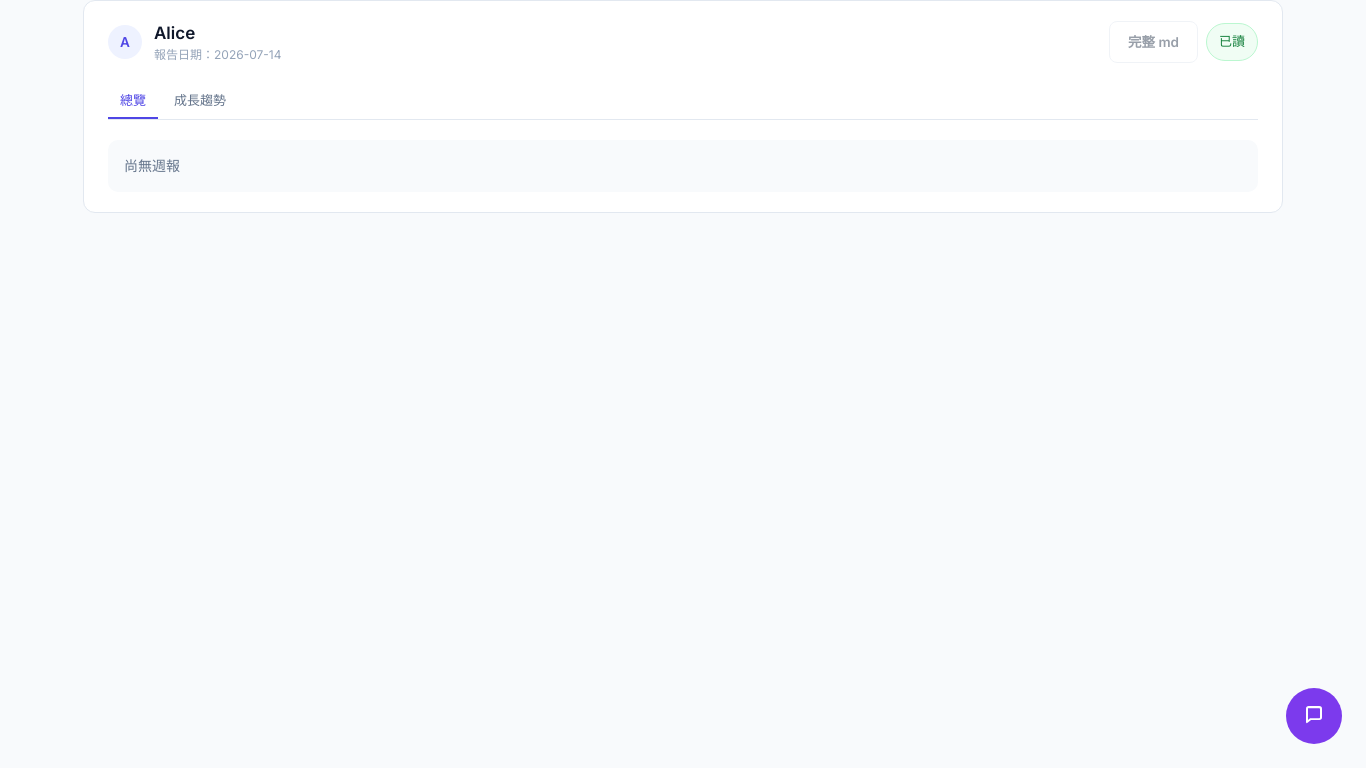
ReportsPage Agent Chat › appends assistant reply and reloads latest reports on success
The width and height of the screenshot is (1366, 768).
Step 1. Click the button named "展開 Agent Chat" → (1314, 716), box [1286, 688, 1342, 744]
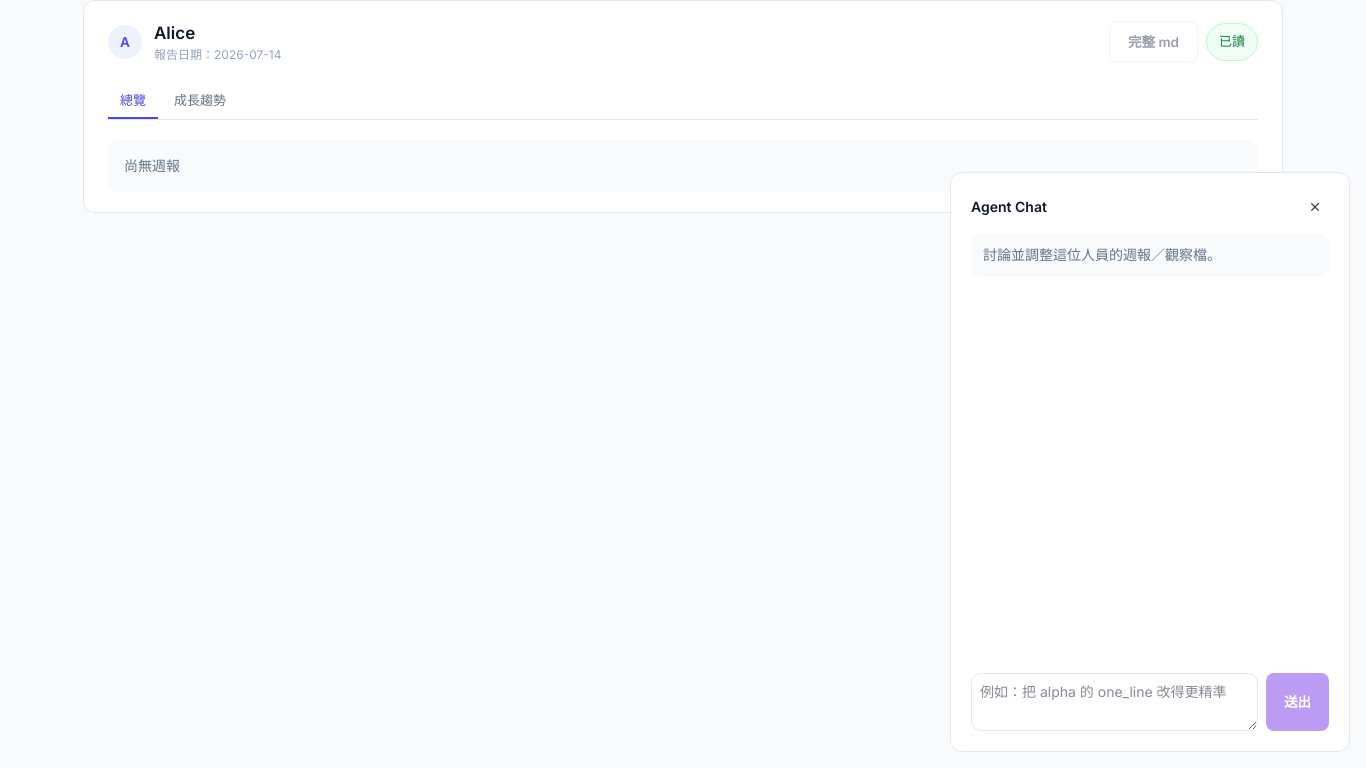
Step 2. Type "tighten one_line" into the text box with placeholder "例如：把 alpha 的 one_line 改得更精準" → (1114, 702), box [971, 673, 1258, 731]
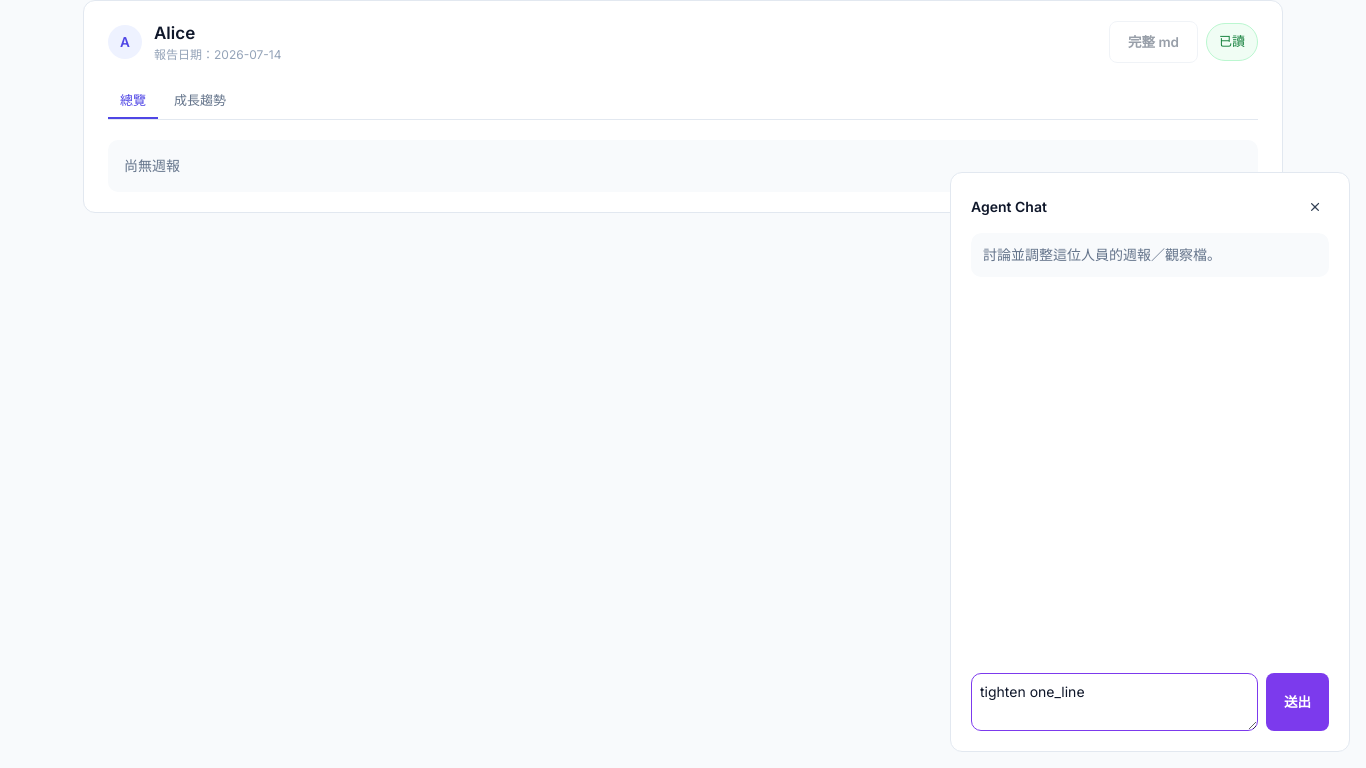
Step 3. Click the button "送出" → (1298, 702), box [1266, 673, 1329, 731]
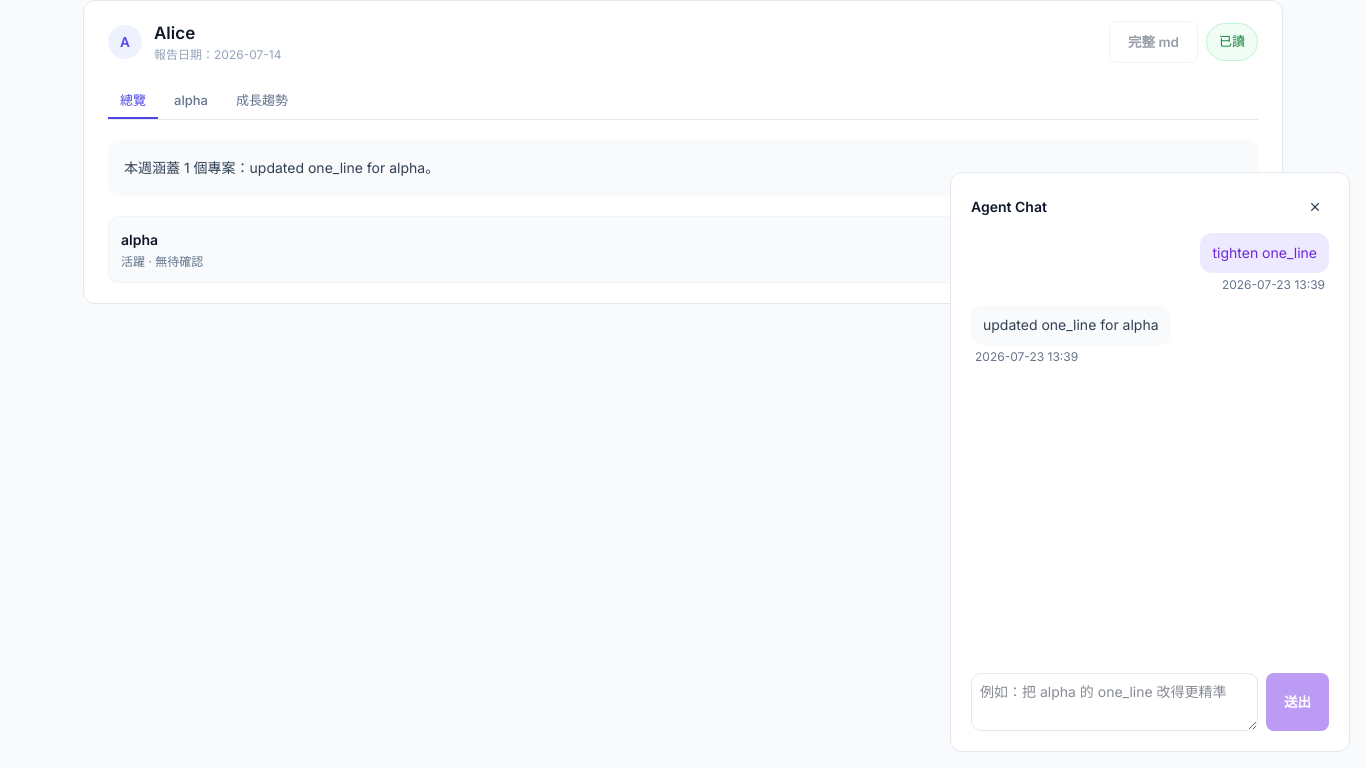
Check: the text "updated one_line for alpha" is shown, box [971, 305, 1171, 345]
Check: the text "tighten one_line" is shown, box [1200, 233, 1329, 273]
